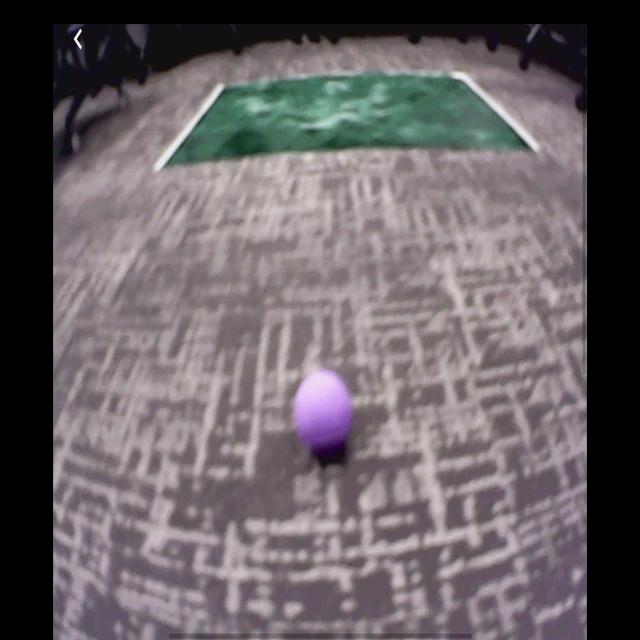ball: (295, 369, 350, 457)
